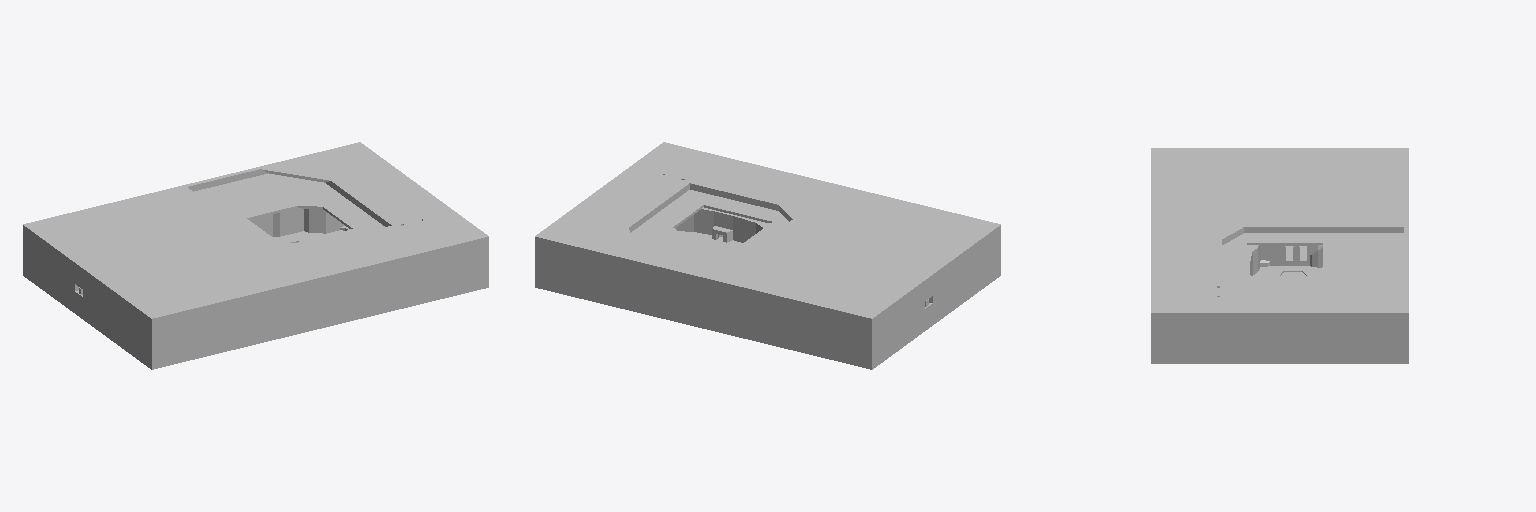
3 views of the same model, side by side, from view 1: azimuth 30°, elevation 25°; view 2: azimuth 150°, elevation 25°; view 3: azimuth 270°, elevation 25° (orthographic).
Parts seen in each view (by area): view 1: entity0_brush976, entity0_brush532, entity0_brush533, entity0_brush610, entity0_brush977, entity0_brush488, entity0_brush494, entity0_brush3, entity0_brush534, entity0_brush664, entity0_brush21, entity0_brush13 (+9 smaller); view 2: entity0_brush533, entity0_brush12, entity0_brush976, entity0_brush977, entity0_brush532, entity0_brush488, entity0_brush610, entity0_brush3, entity0_brush534, entity0_brush21, entity0_brush664, entity0_brush197 (+11 smaller); view 3: entity0_brush11, entity0_brush976, entity0_brush533, entity0_brush977, entity0_brush532, entity0_brush488, entity0_brush610, entity0_brush494, entity0_brush3, entity0_brush664, entity0_brush534, entity0_brush13 (+6 smaller).
Part boxes in pixels (x1,y1,x2,y2): entity0_brush976: (101, 252, 272, 369); entity0_brush532: (257, 237, 438, 339); entity0_brush533: (23, 195, 177, 299); entity0_brush610: (199, 173, 326, 215); entity0_brush977: (70, 230, 178, 278); entity0_brush488: (242, 228, 405, 276); entity0_brush494: (438, 225, 488, 295); entity0_brush3: (261, 149, 375, 187); entity0_brush534: (136, 220, 220, 262); entity0_brush664: (149, 187, 222, 222); entity0_brush21: (336, 182, 406, 226); entity0_brush13: (343, 145, 419, 195); entity0_brush533: (751, 264, 906, 369); entity0_brush12: (539, 236, 753, 339); entity0_brush976: (830, 195, 1000, 311); entity0_brush977: (828, 243, 937, 290); entity0_brush532: (698, 154, 878, 206); entity0_brush488: (696, 171, 860, 218); entity0_brush610: (633, 232, 736, 275); entity0_brush3: (558, 208, 639, 258); entity0_brush534: (786, 232, 871, 273); entity0_brush21: (623, 179, 690, 229); entity0_brush664: (714, 250, 787, 286); entity0_brush197: (681, 190, 785, 222); entity0_brush11: (1184, 311, 1408, 363); entity0_brush976: (1151, 148, 1252, 206); entity0_brush533: (1340, 148, 1408, 206); entity0_brush977: (1253, 154, 1339, 185); entity0_brush532: (1151, 207, 1183, 288); entity0_brush488: (1184, 208, 1219, 279); entity0_brush610: (1332, 239, 1403, 282); entity0_brush494: (1151, 295, 1183, 363); entity0_brush3: (1307, 263, 1403, 302); entity0_brush664: (1329, 208, 1403, 232); entity0_brush534: (1253, 186, 1339, 206); entity0_brush13: (1280, 300, 1403, 310).
Size of the model in its own units: 6998 by 1010 by 4632.